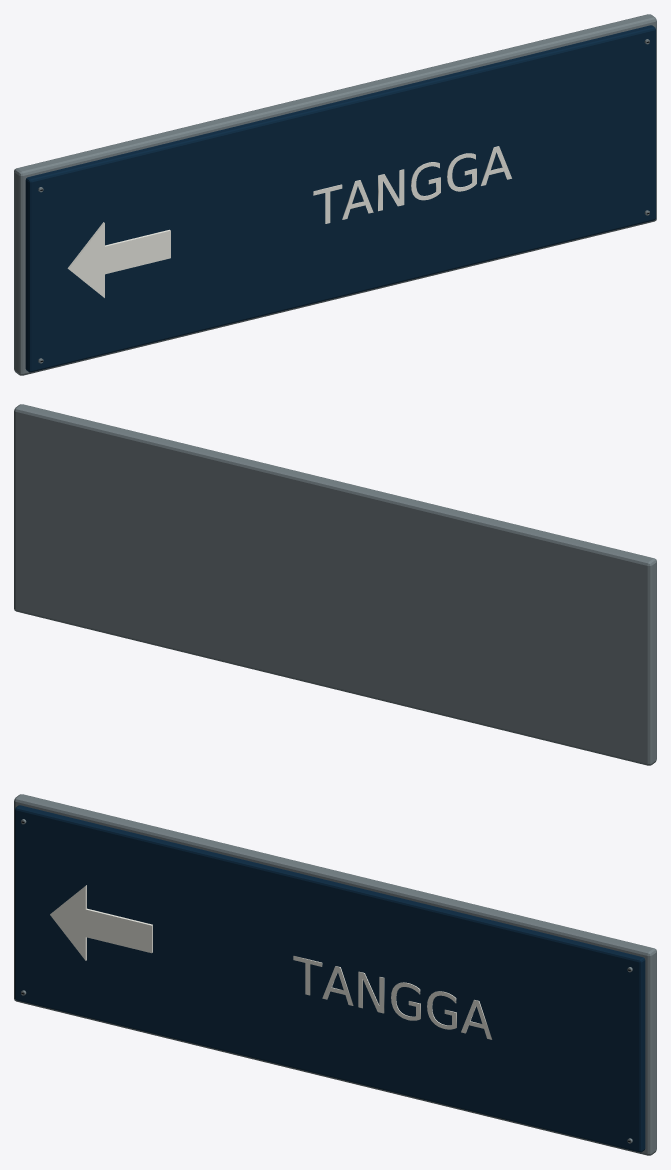
File: OAA_Papan_Arah_Tangga_Kiri.fbx
3 renders of one model, top to bottom at view 1: azimuth 30°, elevation 25°; view 2: azimuth 150°, elevation 25°; view 3: azimuth 330°, elevation 25°, orthographic.
Visible parts, largest first — view 1: Body; view 2: Body; view 3: Body.
Boxes of the visible parts, bbox=[...] form: Body: bbox=[14, 14, 656, 375]; Body: bbox=[14, 404, 656, 765]; Body: bbox=[14, 794, 656, 1155].
Size of the model in its own units: 0.85 by 0.26 by 0.0325.
